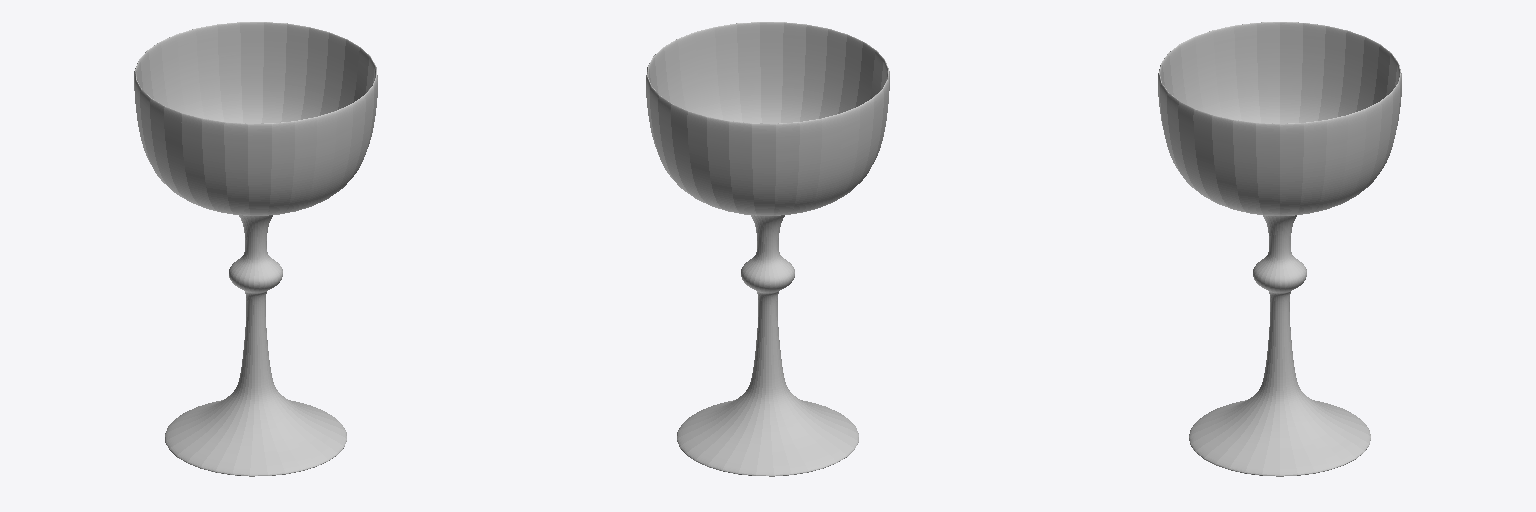
File: chalice.obj
The picture shows the model from 3 angles: view 1: azimuth 30°, elevation 25°; view 2: azimuth 150°, elevation 25°; view 3: azimuth 270°, elevation 25°; orthographic projection.
Visible parts, largest first — view 1: chalice_chalice; view 2: chalice_chalice; view 3: chalice_chalice.
Part boxes in pixels (left/top/right/bottom): chalice_chalice: left=134, top=22, right=377, bottom=476; chalice_chalice: left=646, top=22, right=889, bottom=476; chalice_chalice: left=1158, top=22, right=1401, bottom=476.
Bounding box in the file's own units: 13.3 × 21.98 × 13.3.